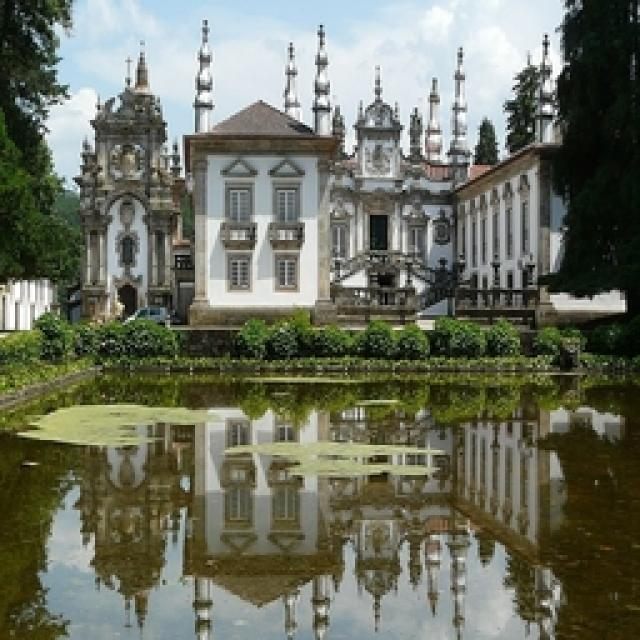Abbey: (70, 64, 541, 301)
